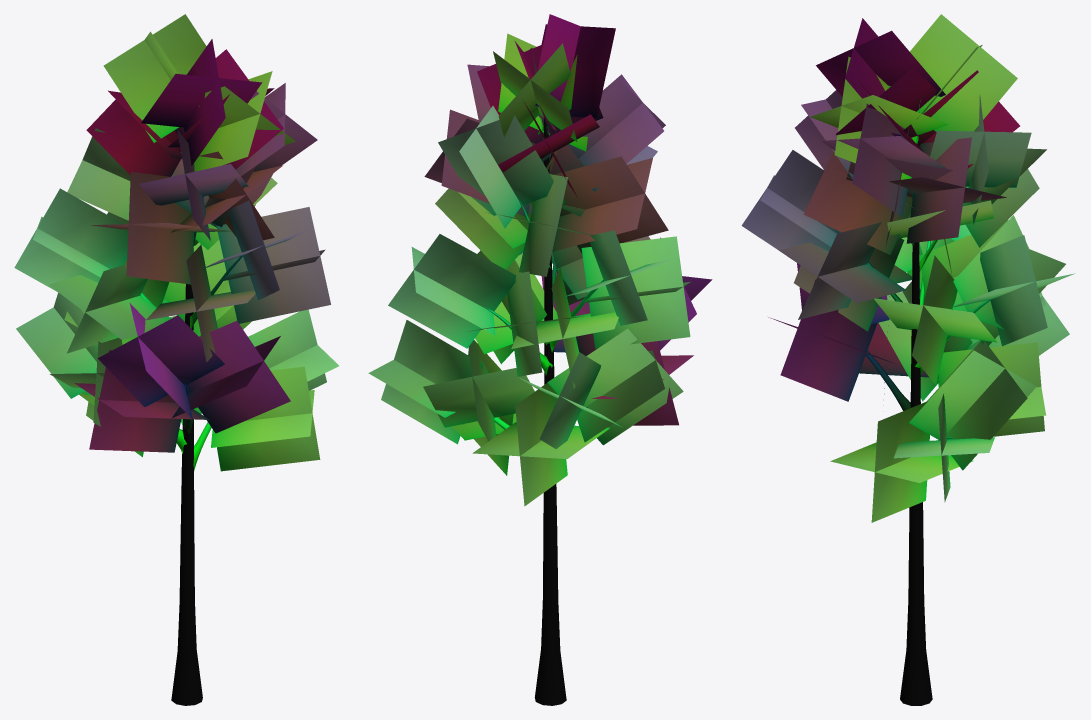
Rendered from URP_P5_Tree_1_LOD_2.fbx.
The picture shows the model from 3 angles, left to right: view 1: azimuth 30°, elevation 25°; view 2: azimuth 150°, elevation 25°; view 3: azimuth 270°, elevation 25°; orthographic projection.
Parts seen in each view (by area): view 1: Tree_1_LOD_2; view 2: Tree_1_LOD_2; view 3: Tree_1_LOD_2.
Boxes of the visible parts, box(x1,y1,x2,y2) form: Tree_1_LOD_2: box(14, 14, 338, 705); Tree_1_LOD_2: box(368, 14, 712, 705); Tree_1_LOD_2: box(741, 14, 1075, 705).
Size of the model in its own units: 281 by 613 by 276.
